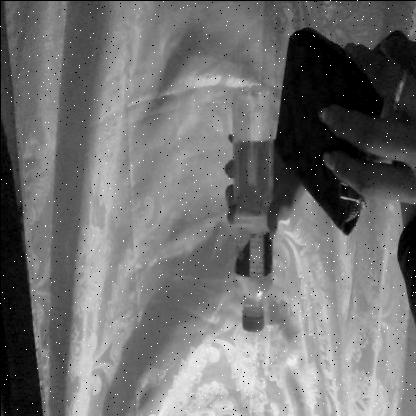Plastic Bottle: (216, 69, 283, 331)
